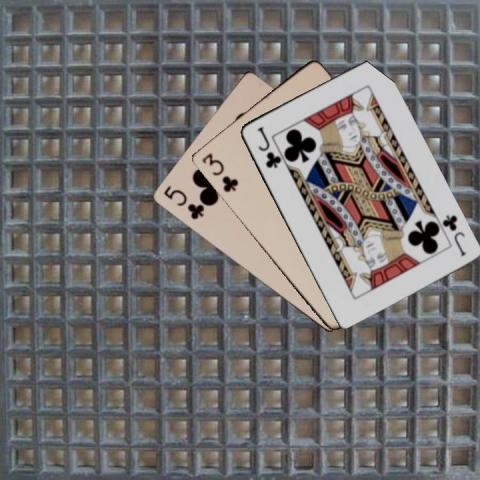3c: (199, 150, 239, 194)
5c: (160, 182, 205, 221)
Jc: (253, 124, 282, 170), (439, 212, 467, 258)
